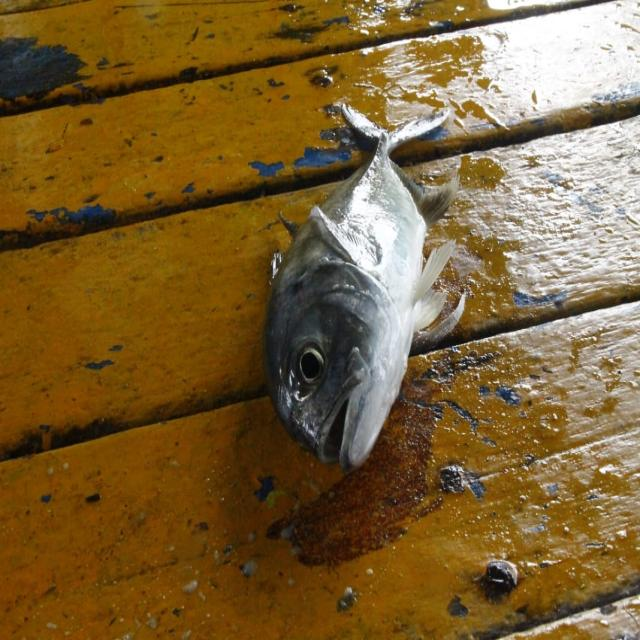ikan: (254, 77, 478, 493)
